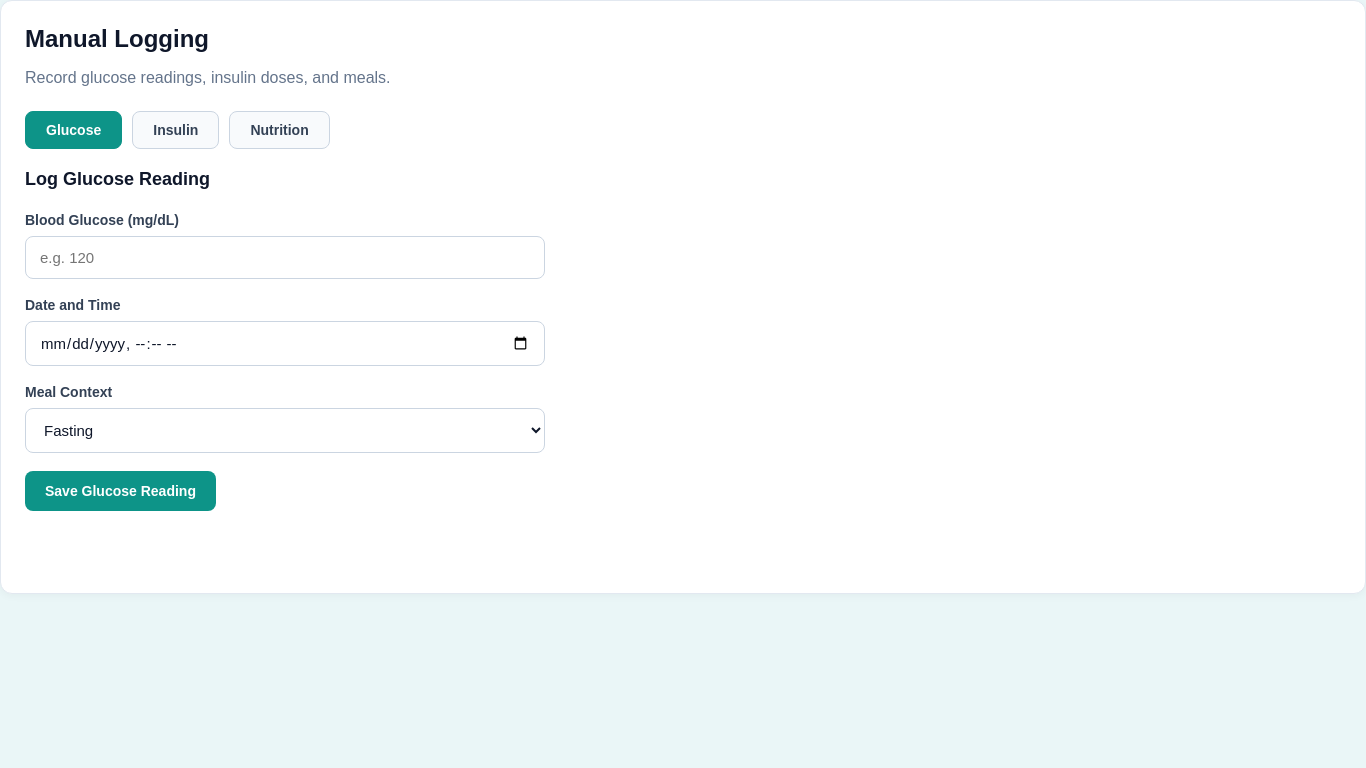
Test: ManualLogging › switches to the nutrition form
Click the button "Nutrition": x=280, y=130 [229, 111, 330, 149]
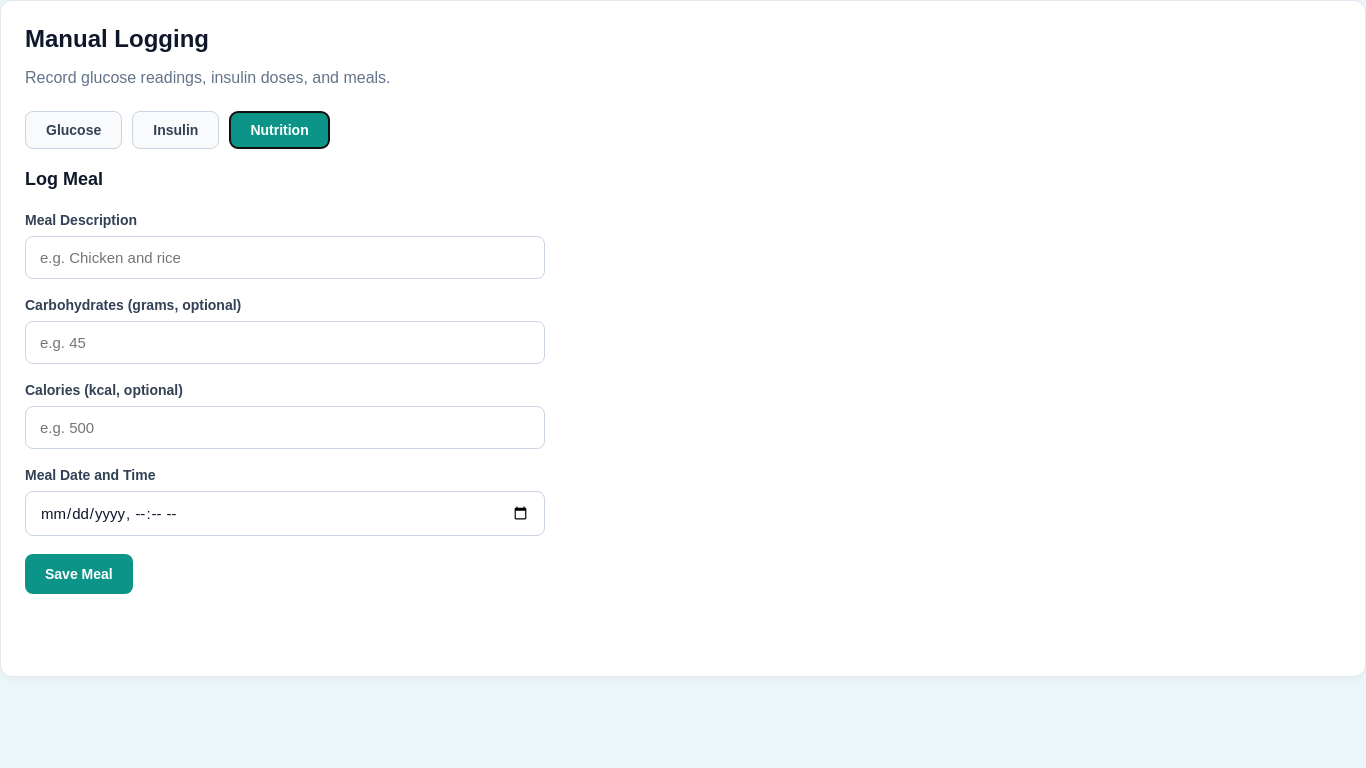
Check: the heading "Log Meal" is shown, box [25, 169, 103, 189]
Check: the field labelled "Meal Description" is shown, box [25, 236, 545, 279]
